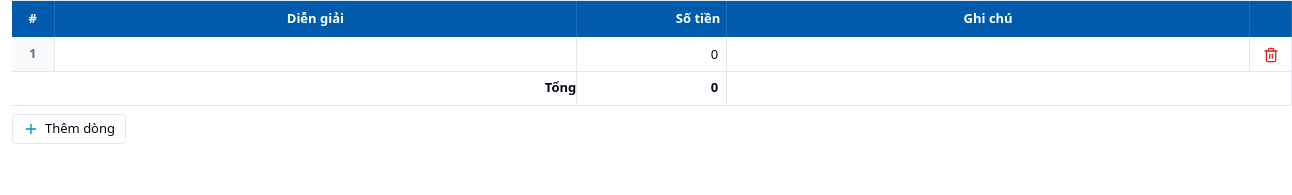
Scenario: CashLineGrid › adds and removes lines and totals amounts
In the field named "Diễn giải dòng 1": (315, 54) [54,38,576,70], type "Thu tiền hàng"
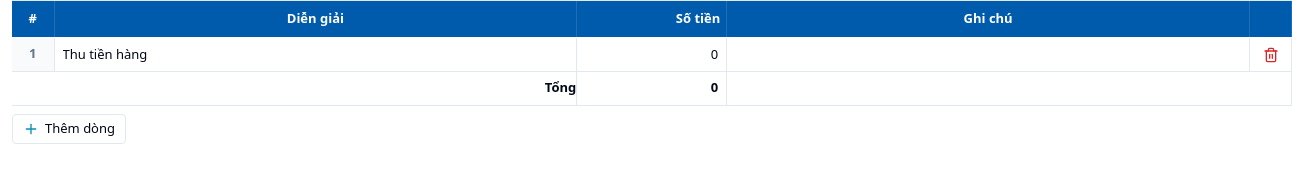
Replace the text in the field named "Số tiền dòng 1" with "1.000.000": (652, 54) [577,38,726,70]
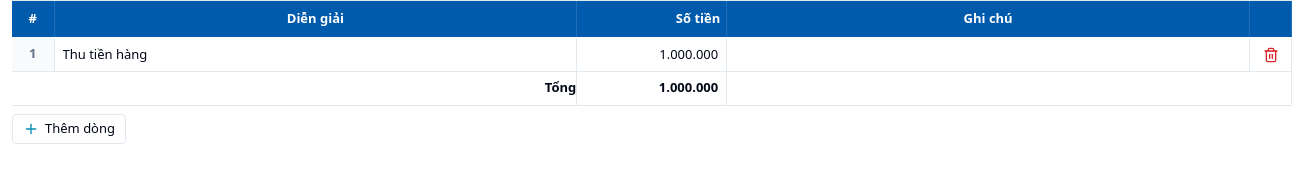
Click the button "Thêm dòng": click(69, 128) [12,114,126,144]
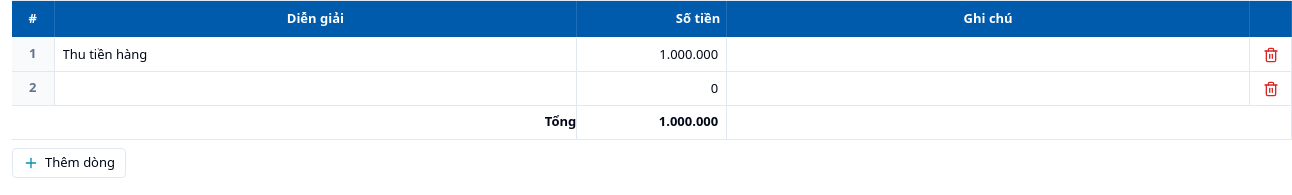
Expected: the field named "Diễn giải dòng 2" is shown, [54,72,576,104]
Replace the text in the field named "Số tiền dòng 2" with "500000": (652, 88) [577,72,726,104]
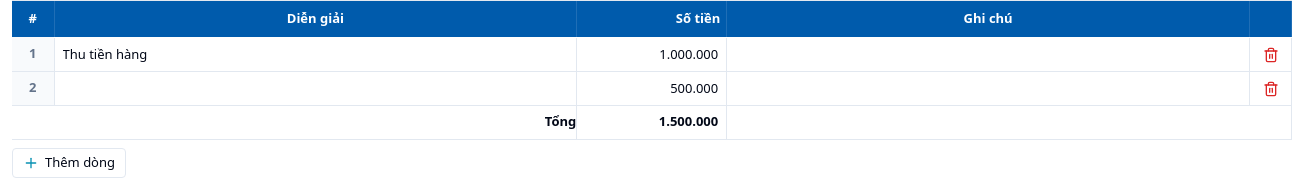
In the field named "Ghi chú dòng 2": (988, 88) [727,72,1249,104], type "Tạm ứng"
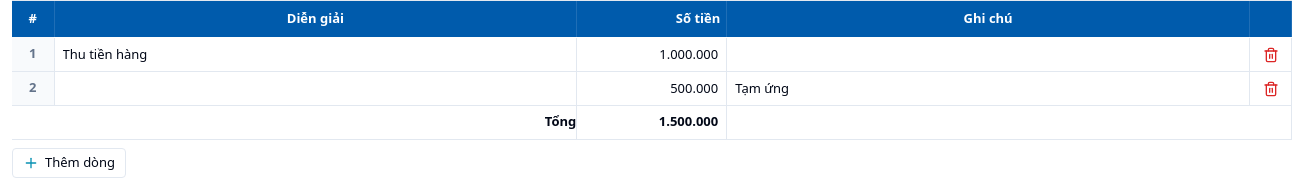
Expected: the text with test id "cash-lines-total" reads "1.500.000", [659,112,718,130]
Click the button named "Xóa dòng 1": click(1270, 54) [1256,40,1284,68]
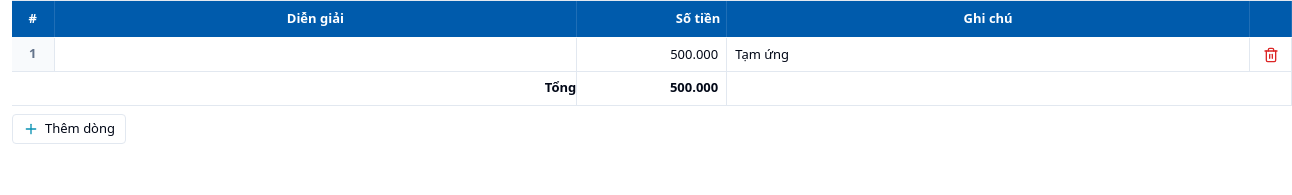
Expected: the text with test id "cash-lines-total" reads "500.000", [670,78,718,96]
